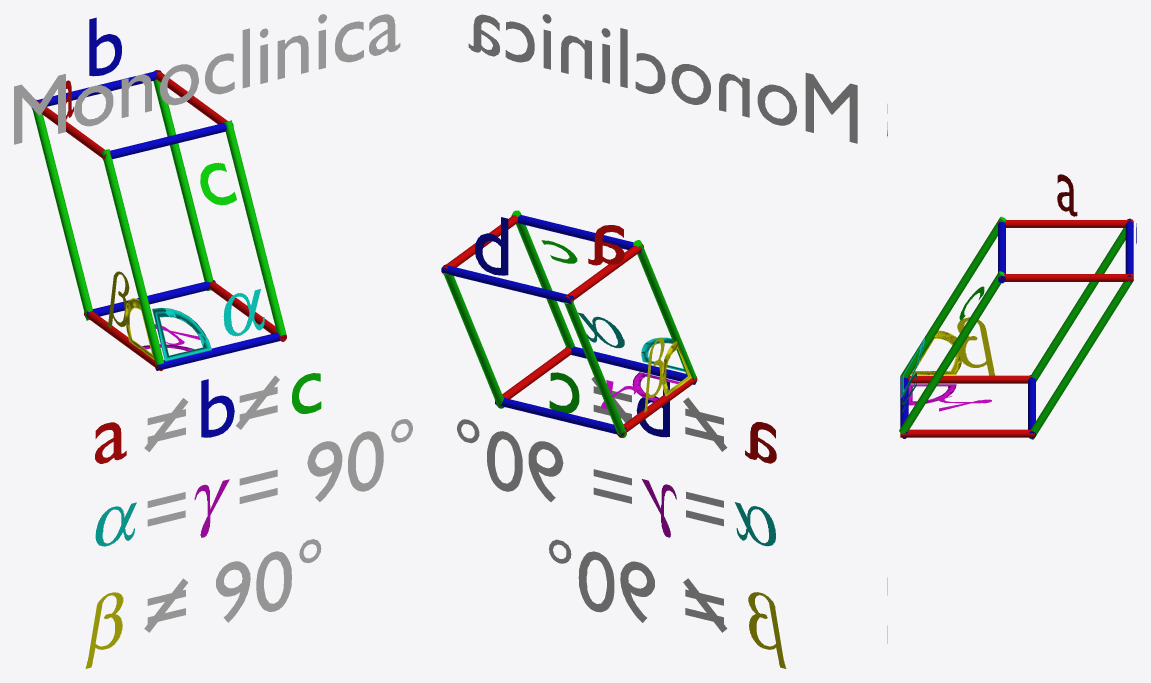
The model's file is monoclinica.obj.obj.
3 views of the same model, side by side, from view 1: azimuth 30°, elevation 25°; view 2: azimuth 150°, elevation 25°; view 3: azimuth 270°, elevation 25° (orthographic). The views are drawn at different scales.
Parts seen in each view (by area): view 1: Text.133_Text.096, Text.083_Text.084, Text.084_Text.094, Cylinder.083_Cylinder.107, Cylinder.075_Cylinder.099, Cylinder.081_Cylinder.105, Cylinder.078_Cylinder.102, Cylinder.074_Cylinder.098, Cylinder.073_Cylinder.097, Sphere.063_Sphere.101, Text.075_Text.076, Text.073_Text.074 (+13 smaller); view 2: Text.133_Text.096, Text.083_Text.084, Text.084_Text.094, Cylinder.081_Cylinder.105, Cylinder.078_Cylinder.102, Cylinder.080_Cylinder.104, Cylinder.083_Cylinder.107, Cylinder.075_Cylinder.099, Cylinder.079_Cylinder.103, Cylinder.074_Cylinder.098, Text.073_Text.074, Cylinder.073_Cylinder.097 (+7 smaller); view 3: Cylinder.075_Cylinder.099, Cylinder.078_Cylinder.102, Cylinder.083_Cylinder.107, Cylinder.081_Cylinder.105, Cylinder.076_Cylinder.100, Cylinder.077_Cylinder.101, Cylinder.084_Cylinder.108, Cylinder.082_Cylinder.106, Text.088_Text.089, Sphere.064_Sphere.102, Cylinder.080_Cylinder.104, Cylinder.074_Cylinder.098 (+2 smaller).
Boxes of the visible parts, x1,y1,x2,y2 form: Text.133_Text.096: [14, 14, 400, 144]; Text.083_Text.084: [239, 419, 412, 503]; Text.084_Text.094: [147, 539, 321, 623]; Cylinder.083_Cylinder.107: [101, 149, 163, 365]; Cylinder.075_Cylinder.099: [223, 120, 286, 335]; Cylinder.081_Cylinder.105: [32, 109, 92, 320]; Cylinder.078_Cylinder.102: [153, 79, 213, 290]; Cylinder.074_Cylinder.098: [102, 123, 233, 159]; Cylinder.073_Cylinder.097: [155, 332, 286, 370]; Sphere.063_Sphere.101: [152, 307, 211, 361]; Text.075_Text.076: [201, 379, 234, 437]; Text.073_Text.074: [89, 17, 121, 76]; Text.133_Text.096: [468, 14, 857, 143]; Text.083_Text.084: [457, 419, 631, 503]; Text.084_Text.094: [549, 539, 723, 624]; Cylinder.081_Cylinder.105: [564, 300, 626, 437]; Cylinder.078_Cylinder.102: [443, 273, 504, 408]; Cylinder.080_Cylinder.104: [442, 264, 574, 304]; Cylinder.083_Cylinder.107: [633, 240, 696, 379]; Cylinder.075_Cylinder.099: [512, 210, 575, 348]; Cylinder.079_Cylinder.103: [495, 398, 626, 435]; Cylinder.074_Cylinder.098: [511, 215, 641, 252]; Text.073_Text.074: [475, 217, 508, 275]; Cylinder.073_Cylinder.097: [565, 346, 696, 384]; Cylinder.075_Cylinder.099: [899, 271, 1004, 434]; Cylinder.078_Cylinder.102: [1028, 280, 1133, 439]; Cylinder.083_Cylinder.107: [900, 216, 1006, 377]; Cylinder.081_Cylinder.105: [1030, 226, 1133, 381]; Cylinder.076_Cylinder.100: [900, 429, 1034, 437]; Cylinder.077_Cylinder.101: [998, 274, 1132, 281]; Cylinder.084_Cylinder.108: [998, 220, 1132, 227]; Cylinder.082_Cylinder.106: [907, 375, 1030, 383]; Text.088_Text.089: [957, 317, 995, 375]; Sphere.064_Sphere.102: [910, 330, 961, 374]; Cylinder.080_Cylinder.104: [1125, 218, 1133, 282]; Cylinder.074_Cylinder.098: [998, 222, 1005, 283].
Size of the model in its own units: 1.68 by 2.41 by 0.996.
